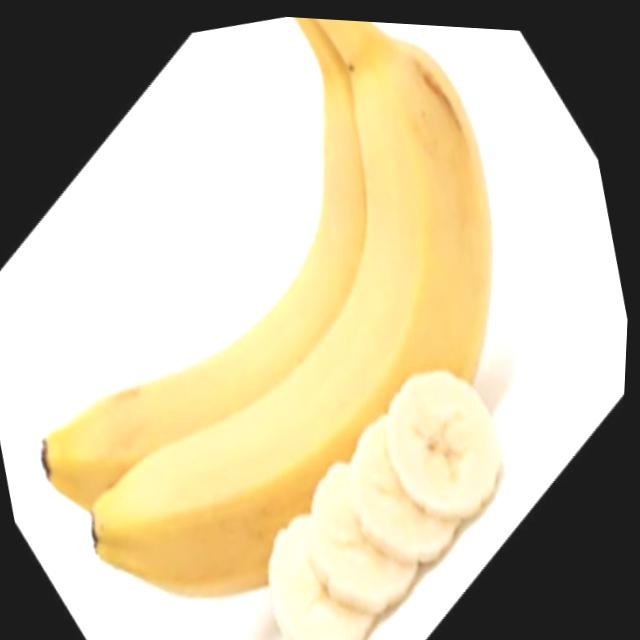Banana: (0, 0, 575, 640), (228, 343, 547, 640)
